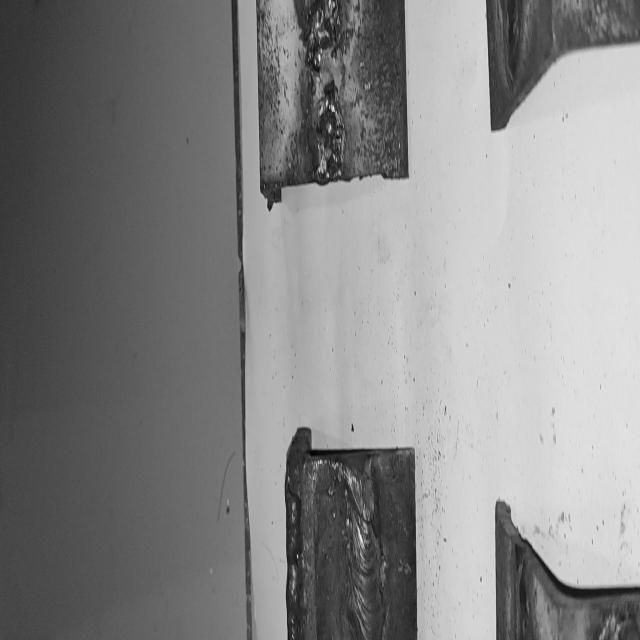Defect: (306, 0, 351, 164)
Good Weld: (344, 464, 380, 640)
